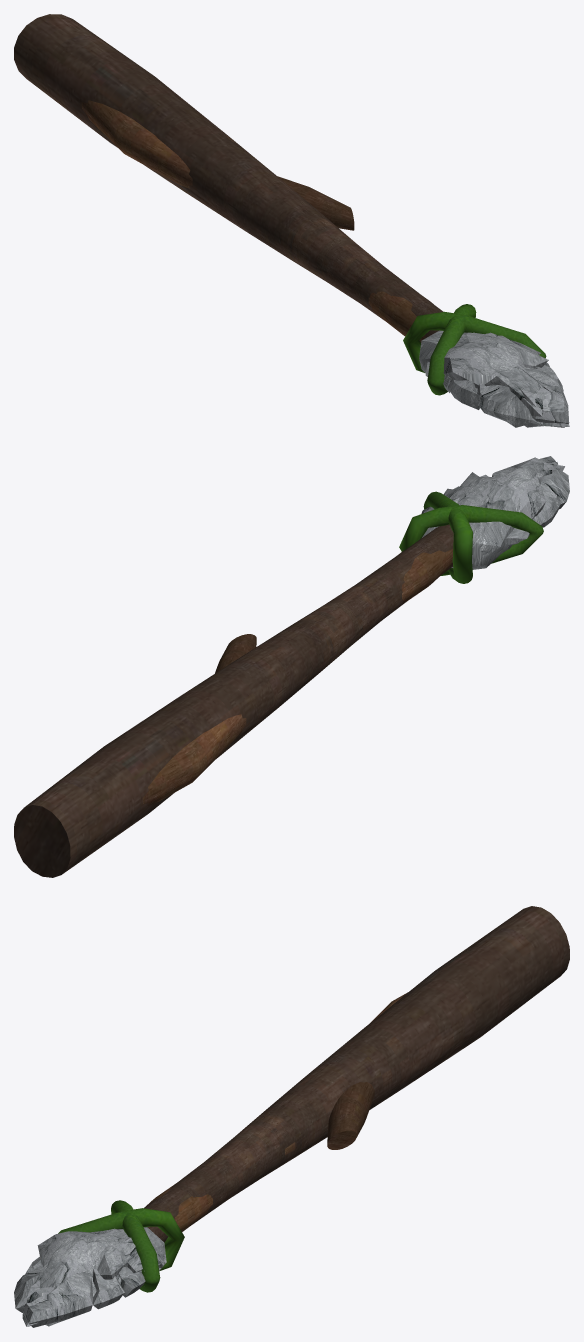
File: Spear Assemble_Prop.fbx
3 views of the same model, one above another, from view 1: azimuth 30°, elevation 25°; view 2: azimuth 150°, elevation 25°; view 3: azimuth 330°, elevation 25° (orthographic).
Parts seen in each view (by area): view 1: Wood Spear.002, Stone Spear.002, Wood Spear.003, Stone Spear.001, Vines thread Spear, Wood Spear.001; view 2: Wood Spear.002, Stone Spear.002, Wood Spear.003, Vines thread Spear, Stone Spear.001, Wood Spear.001; view 3: Wood Spear.002, Stone Spear.002, Stone Spear.001, Vines thread Spear, Wood Spear.001, Wood Spear.003.
Boxes of the visible parts, <box> form: Wood Spear.002: <box>14,14,443,337</box>; Stone Spear.002: <box>419,330,548,416</box>; Wood Spear.003: <box>81,100,431,342</box>; Stone Spear.001: <box>443,362,569,427</box>; Vines thread Spear: <box>403,304,546,395</box>; Wood Spear.001: <box>278,176,354,230</box>; Wood Spear.002: <box>14,524,453,877</box>; Stone Spear.002: <box>422,461,564,569</box>; Wood Spear.003: <box>142,549,452,805</box>; Vines thread Spear: <box>399,491,543,583</box>; Stone Spear.001: <box>453,456,569,530</box>; Wood Spear.001: <box>215,634,256,673</box>; Wood Spear.002: <box>144,906,569,1242</box>; Stone Spear.002: <box>19,1227,166,1308</box>; Stone Spear.001: <box>14,1252,164,1327</box>; Vines thread Spear: <box>58,1200,184,1292</box>; Wood Spear.001: <box>327,1082,374,1149</box>; Wood Spear.003: <box>146,992,407,1231</box>.
Bounding box in the file's own units: 0.2139 × 0.1269 × 1.65.
